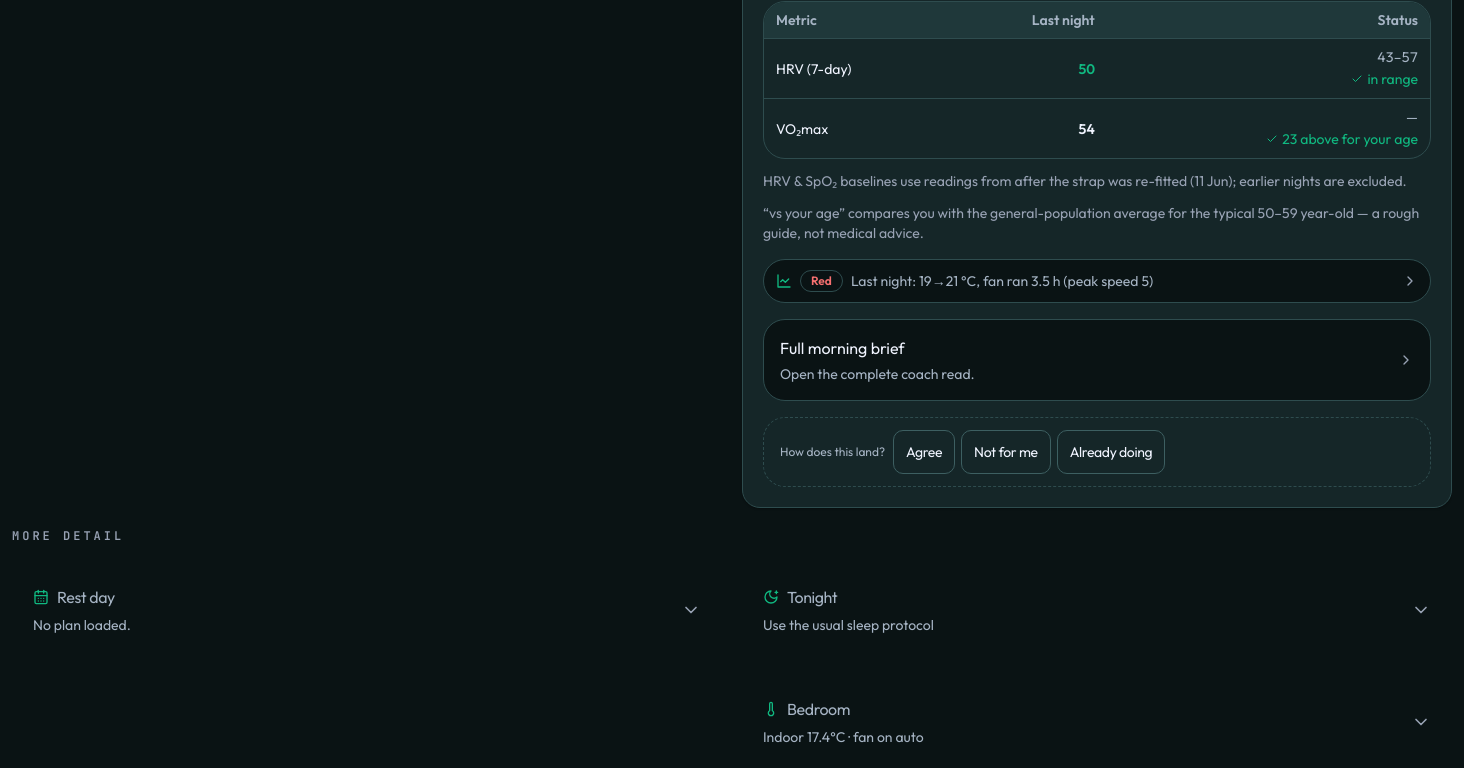
Test: DashboardPage › a day no plan covers reads "No plan loaded" and links to the builder (Batch 343)
(page scrolled)
Check: the text "No plan loaded." is shown, box [33, 616, 131, 634]
Click the button "Rest day No plan loaded.".
click(86, 597)  # box [13, 565, 721, 655]
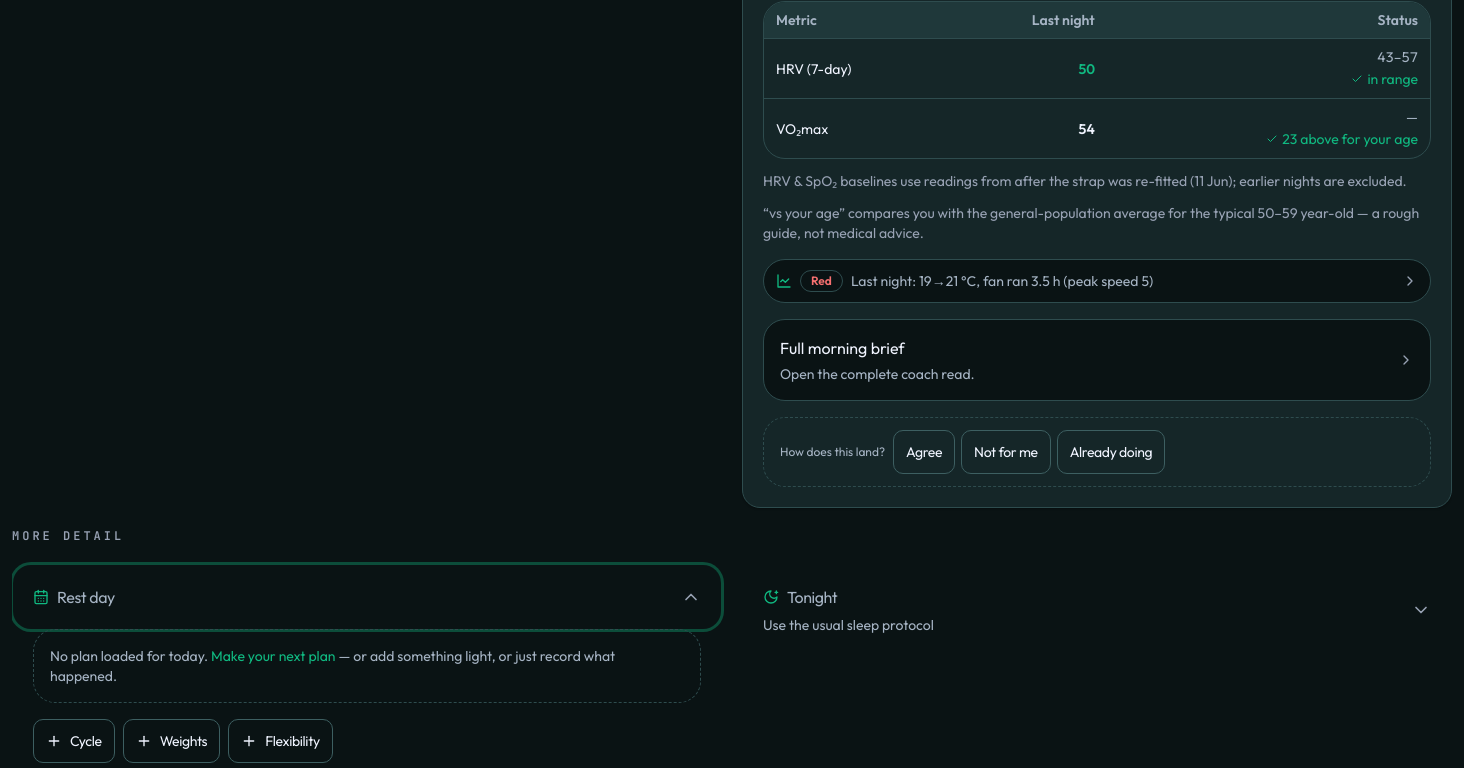
Check: the element with test id "no-plan-loaded" shows "No plan loaded for today.", box [50, 647, 208, 665]
